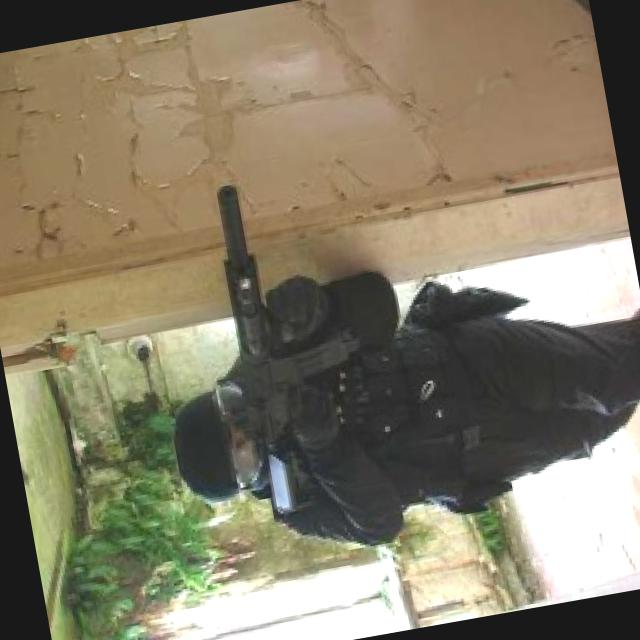long weapon: (170, 165, 356, 518)
